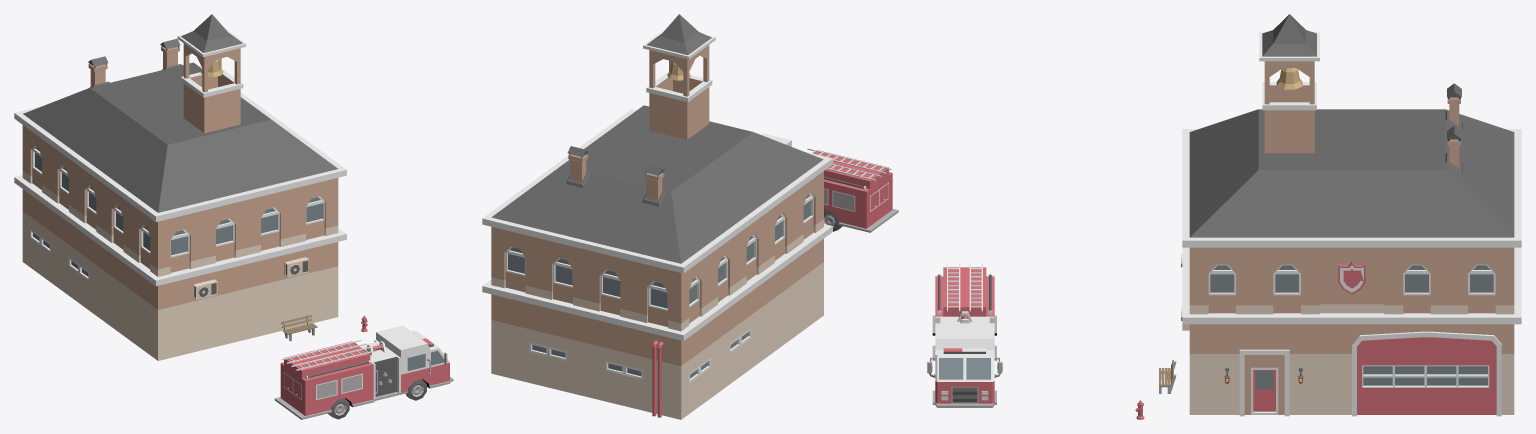
The model's file is Fıre_Department.fbx.
3 views of the same model, side by side, from view 1: azimuth 30°, elevation 25°; view 2: azimuth 150°, elevation 25°; view 3: azimuth 270°, elevation 25° (orthographic). The views are drawn at different scales.
Visible parts, largest first — view 1: building-firestation, firetruck-base, bench-old; view 2: building-firestation, firetruck-base; view 3: building-firestation, firetruck-base.
Boxes of the visible parts, bbox=[...] form: building-firestation: bbox=[14, 14, 346, 360]; firetruck-base: bbox=[274, 325, 453, 419]; bench-old: bbox=[281, 315, 317, 341]; building-firestation: bbox=[482, 14, 832, 419]; firetruck-base: bbox=[761, 133, 898, 232]; building-firestation: bbox=[1181, 14, 1521, 416]; firetruck-base: bbox=[927, 264, 1002, 407].
Bounding box in the file's own units: 1085 × 1554 × 2382.
